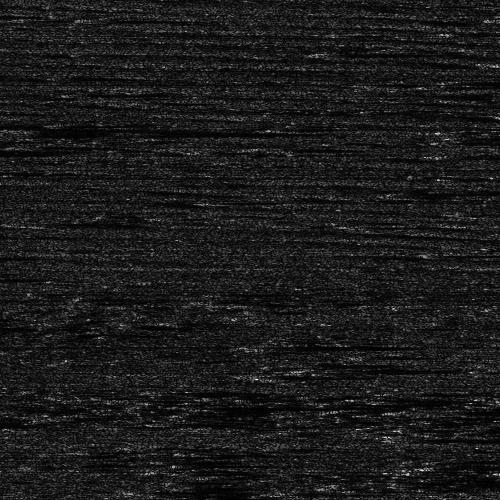rock: (379, 403, 452, 416), (4, 218, 57, 223), (0, 125, 29, 134), (492, 89, 500, 96)
shadow: (0, 125, 242, 134), (416, 403, 500, 416), (0, 269, 84, 280), (0, 122, 165, 127), (0, 146, 55, 157), (31, 218, 128, 223)
